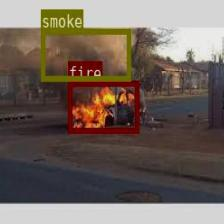fire: (68, 80, 138, 132)
smoke: (40, 28, 130, 80)
